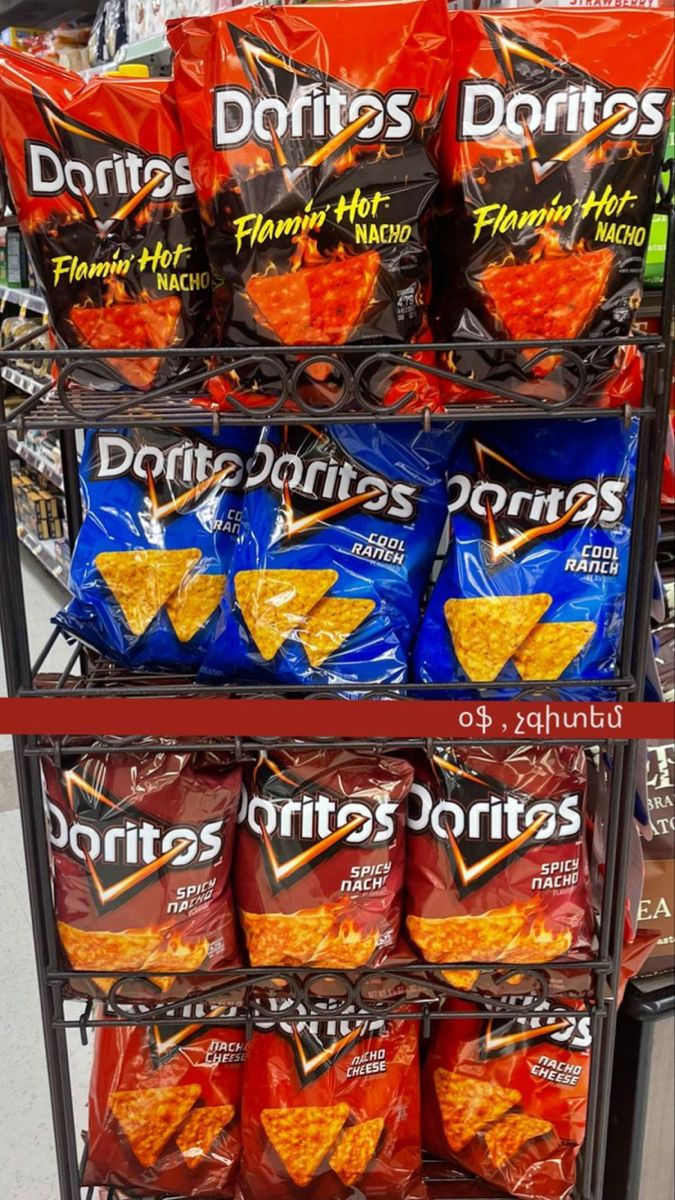Doritos: (169, 24, 451, 387)
